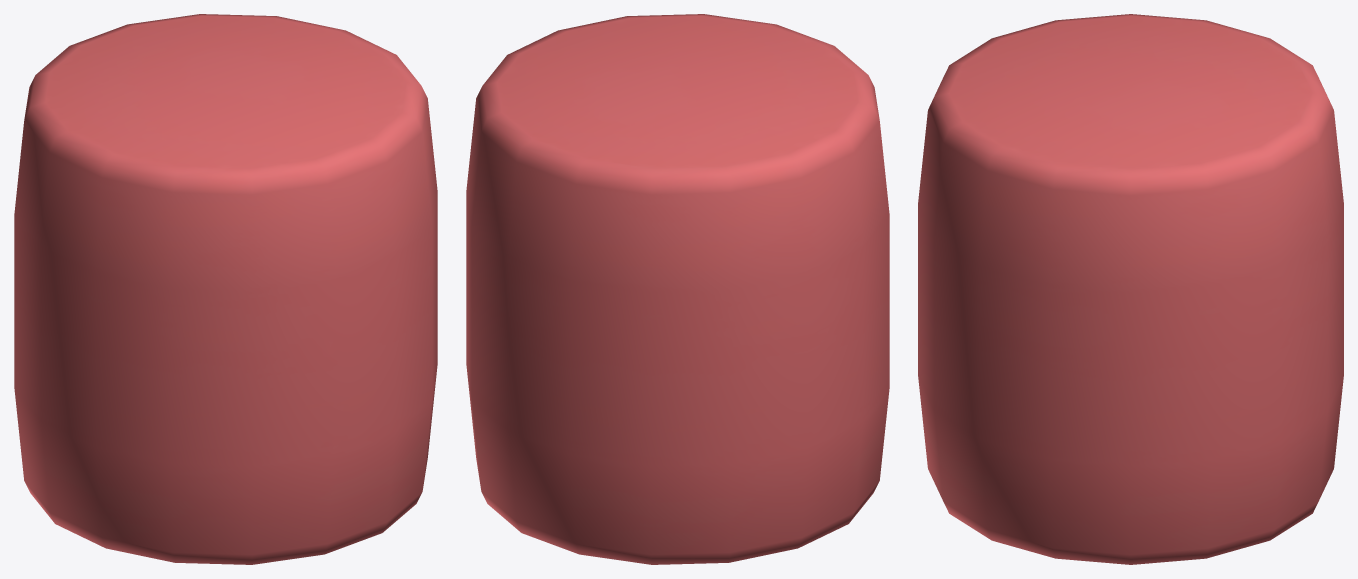
Rendered from RedPole.fbx.
3 renders of one model, left to right at view 1: azimuth 30°, elevation 25°; view 2: azimuth 150°, elevation 25°; view 3: azimuth 270°, elevation 25°, orthographic.
Parts seen in each view (by area): view 1: RedPole; view 2: RedPole; view 3: RedPole.
Part boxes in pixels (<box>): RedPole: <box>14,14,437,564</box>; RedPole: <box>466,14,889,564</box>; RedPole: <box>918,14,1343,564</box>.
Size of the model in its own units: 338 by 344 by 338.
